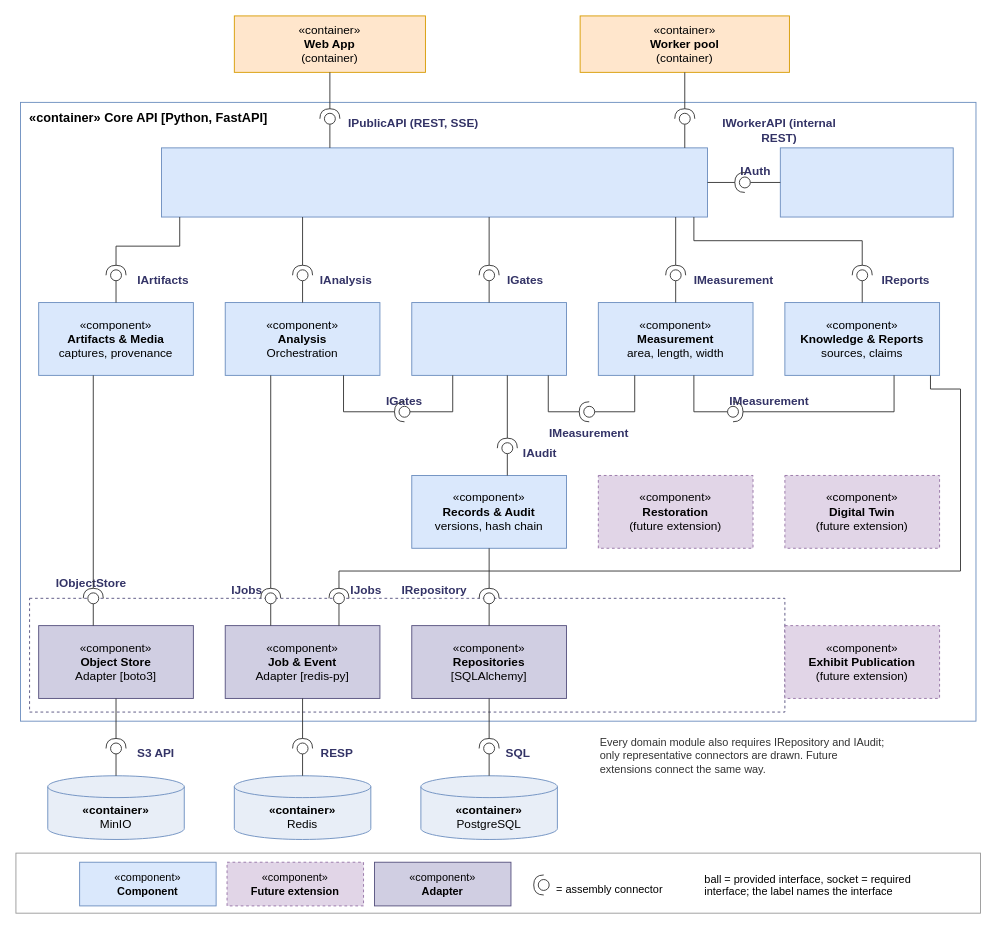
Image size: 996x929. Some labels were removed from this diagram. The shapes that lost their labels are listed below. From the top down, each one's box as (x1, y1, x2, y2) in pixels, then its label:
(161, 147, 708, 217): «component» API Layer routing, validation, SSE streams
(779, 147, 953, 217): «component» Auth & Access login, MFA, roles
(411, 302, 566, 375): «component» Review & Gates gates G1-G3, versions
(29, 597, 785, 712): Infrastructure adapters
(15, 852, 981, 913): Legend
